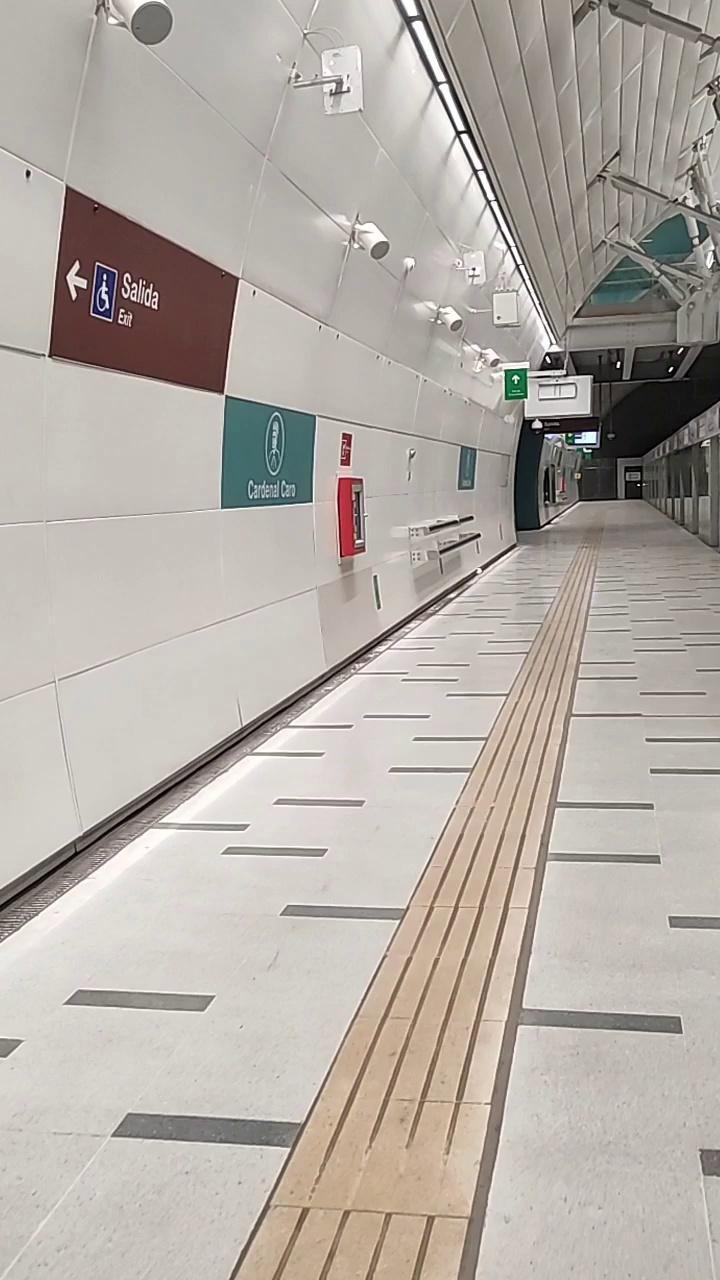handicapped symbol: (88, 263, 122, 325)
left arrow: (62, 255, 91, 307)
